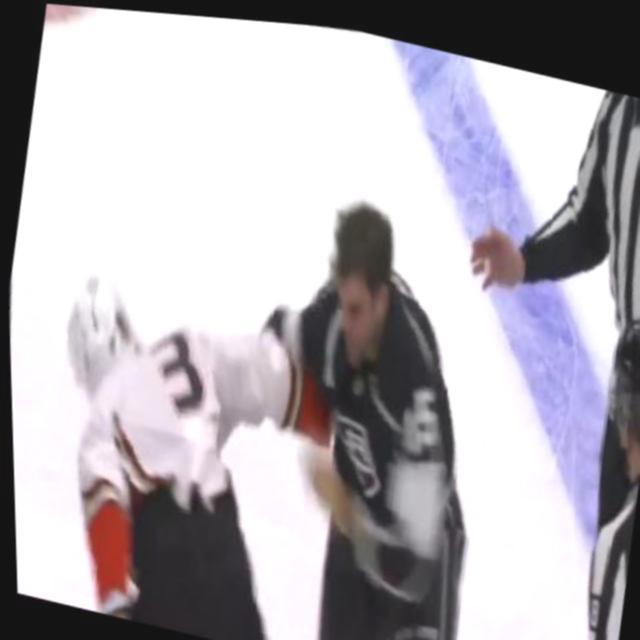fight: (2, 111, 532, 640)
